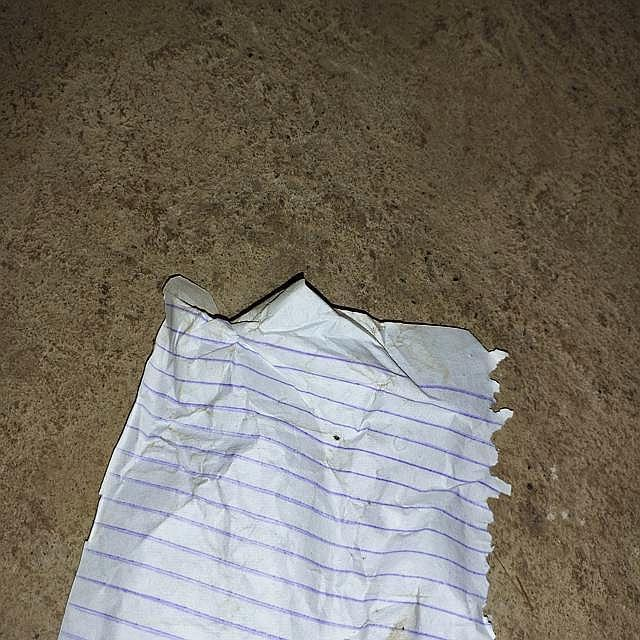Biodegradable: (54, 272, 502, 640)
